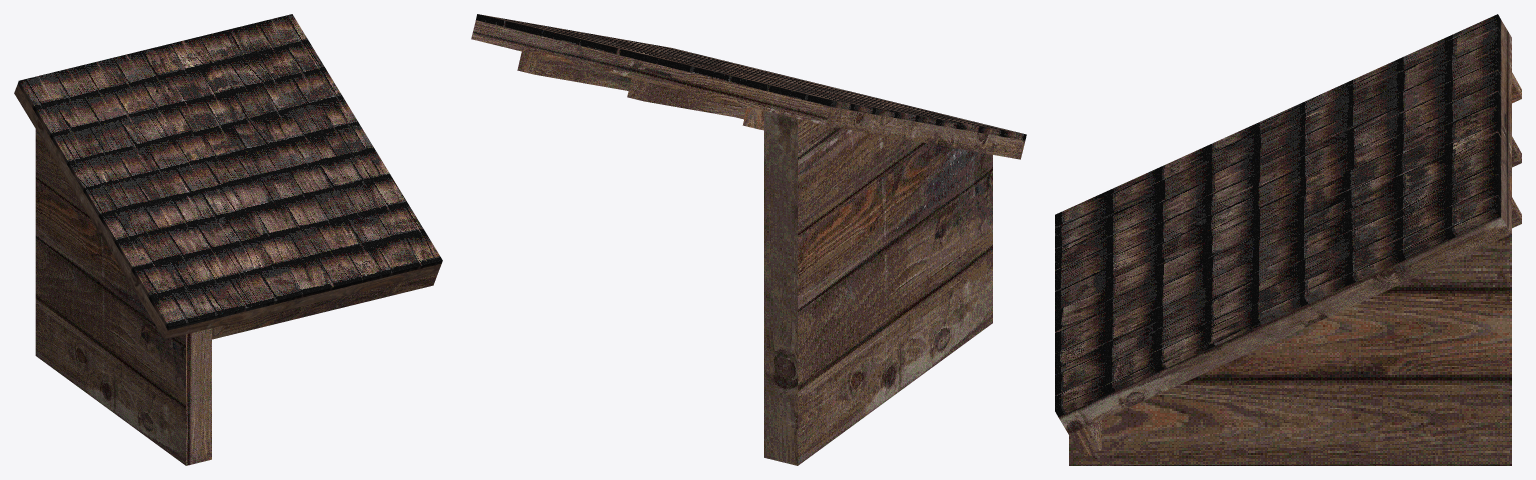
Rendered from roof-midL.glb.
3 views of the same model, side by side, from view 1: azimuth 30°, elevation 25°; view 2: azimuth 150°, elevation 25°; view 3: azimuth 270°, elevation 25° (orthographic). The views are drawn at different scales.
Visible parts, largest first — view 1: roof-midL.001; view 2: roof-midL.001; view 3: roof-midL.001.
Part boxes in pixels (x1,y1,x2,y2): roof-midL.001: [14, 14, 442, 465]; roof-midL.001: [471, 14, 1026, 465]; roof-midL.001: [1055, 14, 1521, 465].
Bounding box in the file's own units: 2.1 × 2.08 × 2.11.
Materials: 2 (2 with a texture image).
